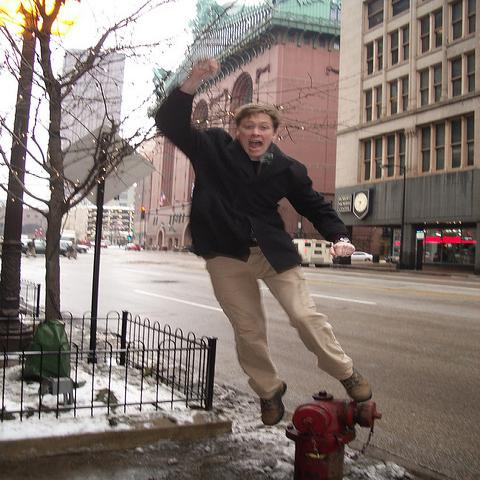car: (59, 240, 87, 256), (21, 242, 46, 254), (351, 251, 373, 262), (124, 242, 141, 251), (101, 242, 107, 248), (138, 244, 145, 249)
truck: (292, 238, 334, 266)
